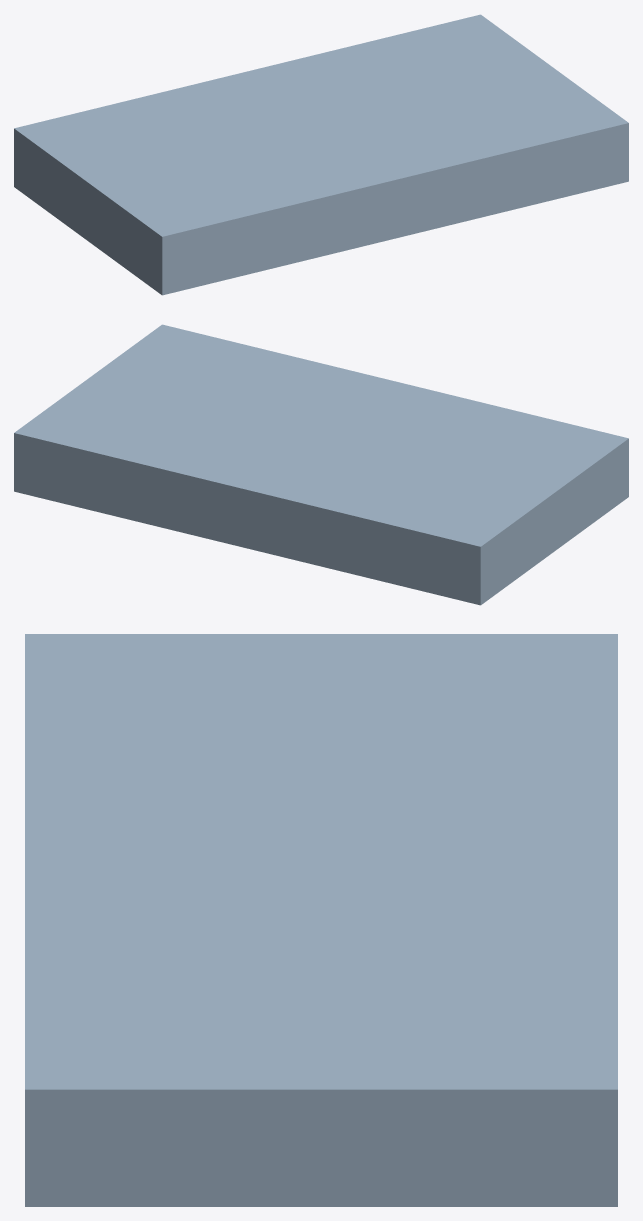
The model's file is lid-steel.glb.
3 renders of one model, top to bottom at view 1: azimuth 30°, elevation 25°; view 2: azimuth 150°, elevation 25°; view 3: azimuth 270°, elevation 25°, orthographic. The views are drawn at different scales.
Parts seen in each view (by area): view 1: root; view 2: root; view 3: root.
Part boxes in pixels (x1=…): root: x1=14, y1=14, x2=628, y2=295; root: x1=14, y1=324, x2=628, y2=605; root: x1=25, y1=634, x2=617, y2=1206.
Bounding box in the file's own units: 2 × 0.24 × 1.1.
Materials: 1 (1 with a texture image).
